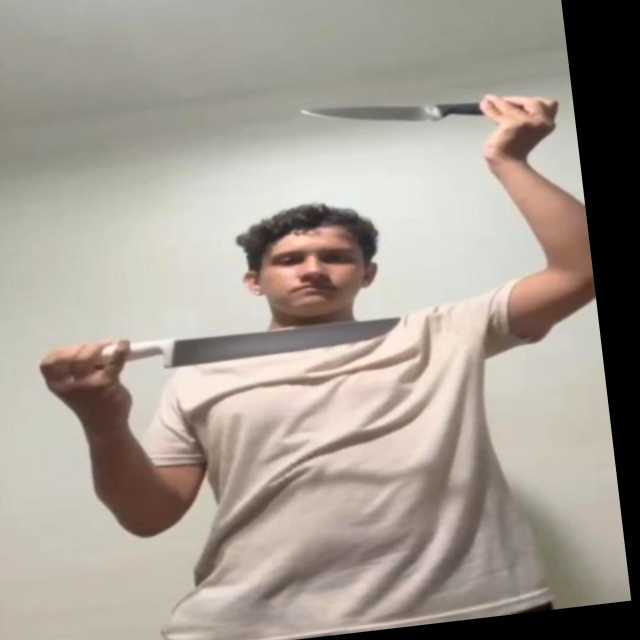Sharp-Object: (165, 315, 399, 367), (307, 96, 443, 137)
